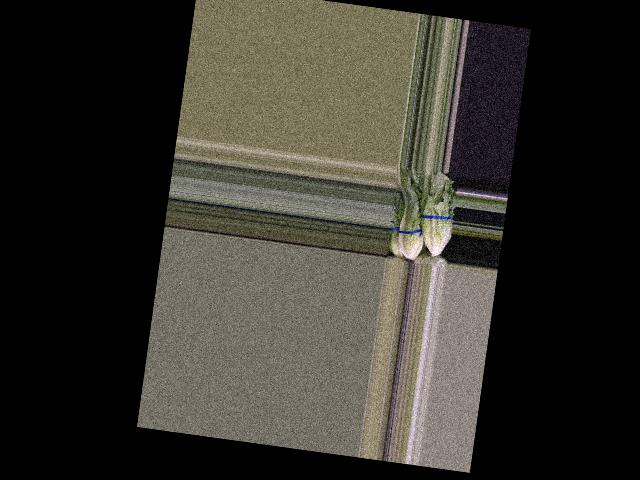lettuce: (389, 183, 431, 262)
